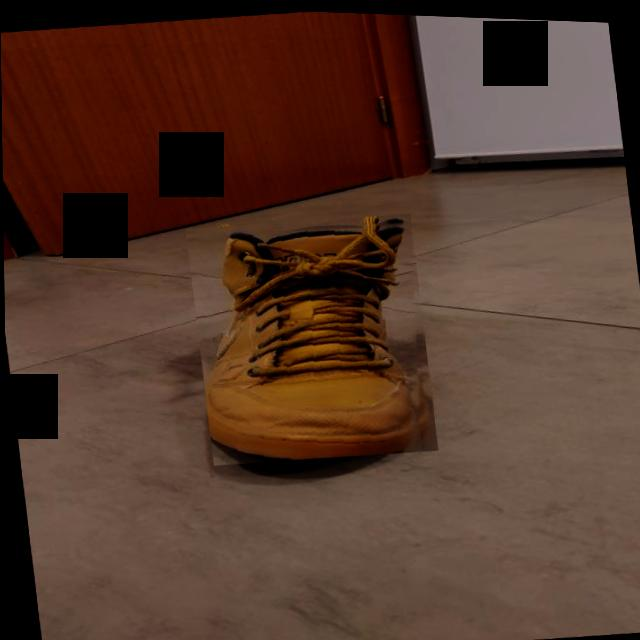shoe: (184, 204, 437, 470)
